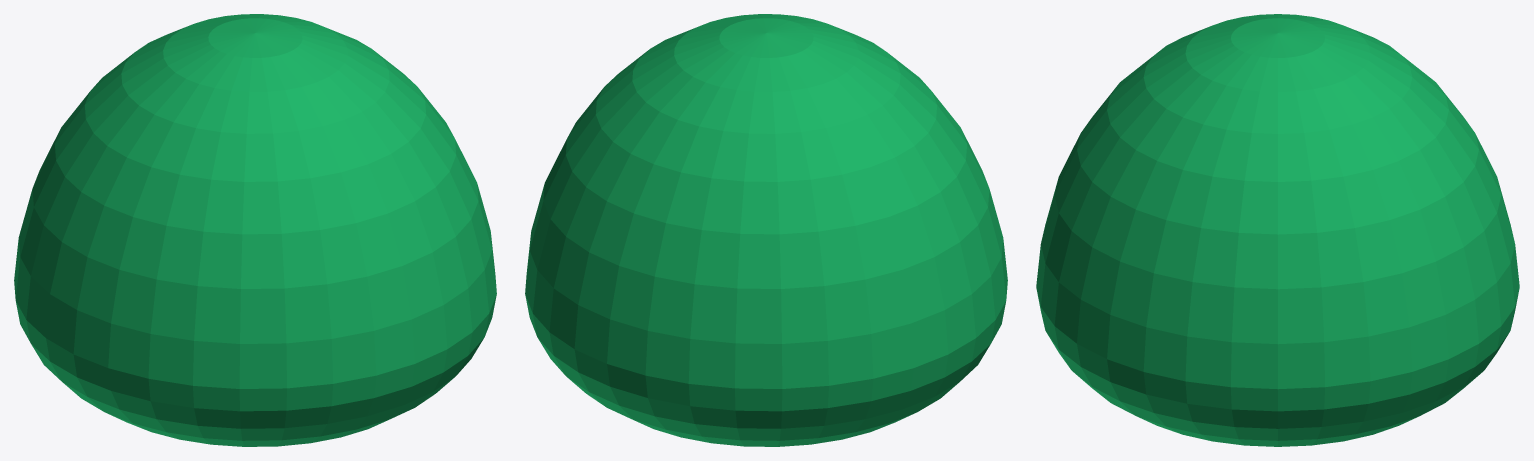
Rendered from slime_inner.obj.
3 renders of one model, left to right at view 1: azimuth 30°, elevation 25°; view 2: azimuth 150°, elevation 25°; view 3: azimuth 270°, elevation 25°, orthographic.
Visible parts, largest first — view 1: inner; view 2: inner; view 3: inner.
Boxes of the visible parts, left/top/right/bottom form: inner: left=14, top=14, right=496, bottom=446; inner: left=525, top=14, right=1007, bottom=446; inner: left=1036, top=14, right=1519, bottom=446.
Bounding box in the file's own units: 0.8441 × 0.7278 × 0.8441.
